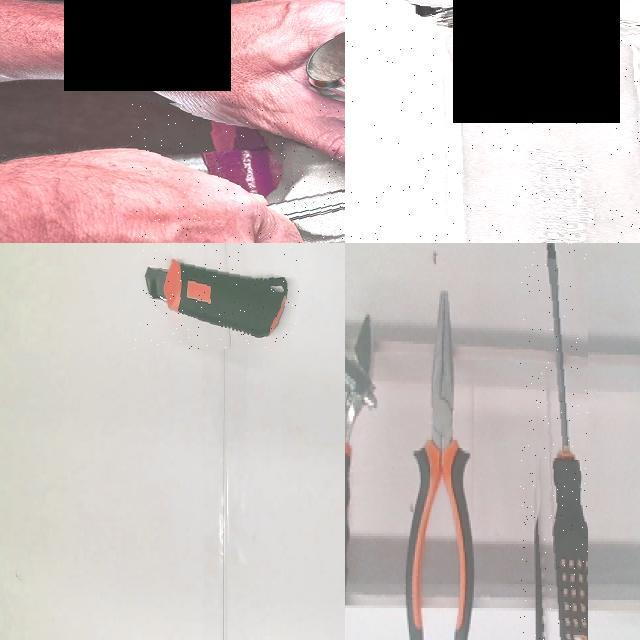estilete: (146, 260, 287, 337)
